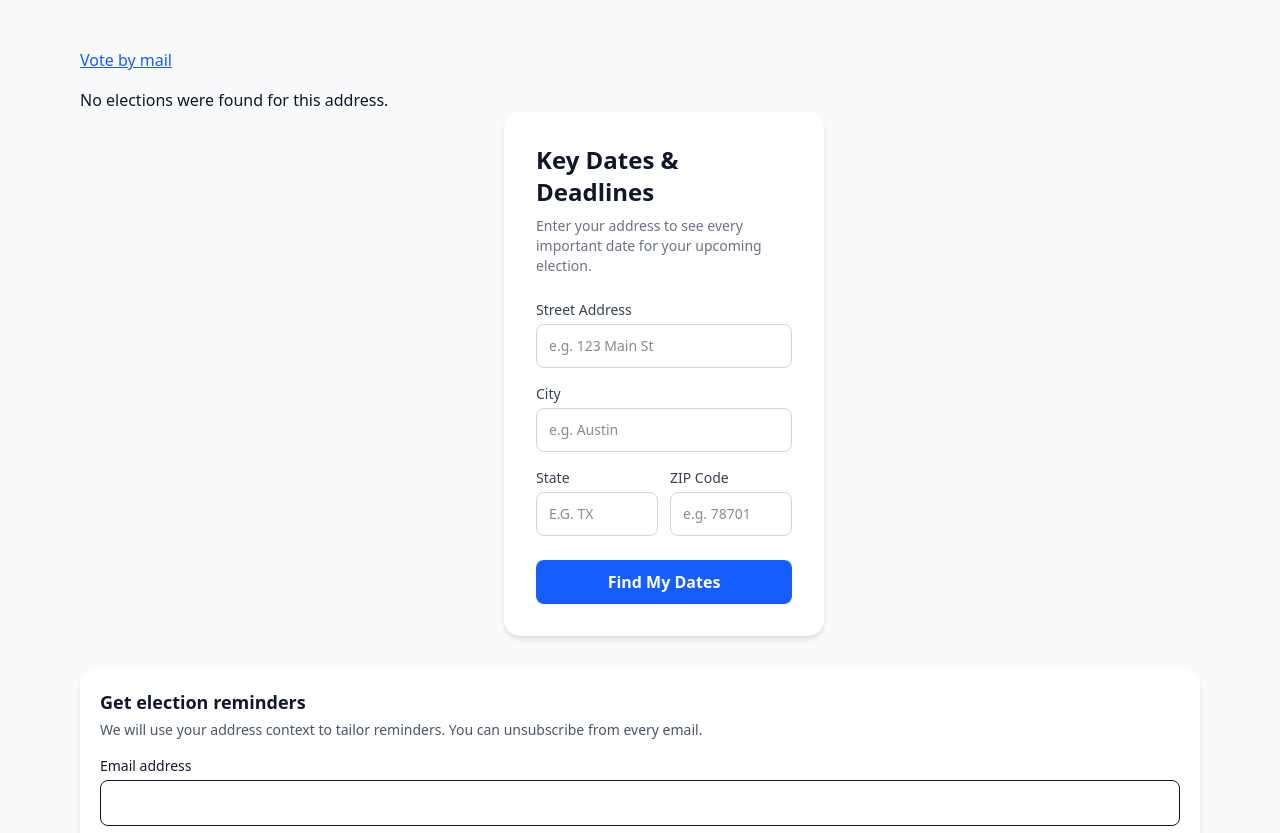
DatesPage › submits the form manually and shows results
Type "123 Main St" into the field labelled "Street Address". click: [664, 346]
box: [536,324,792,368]
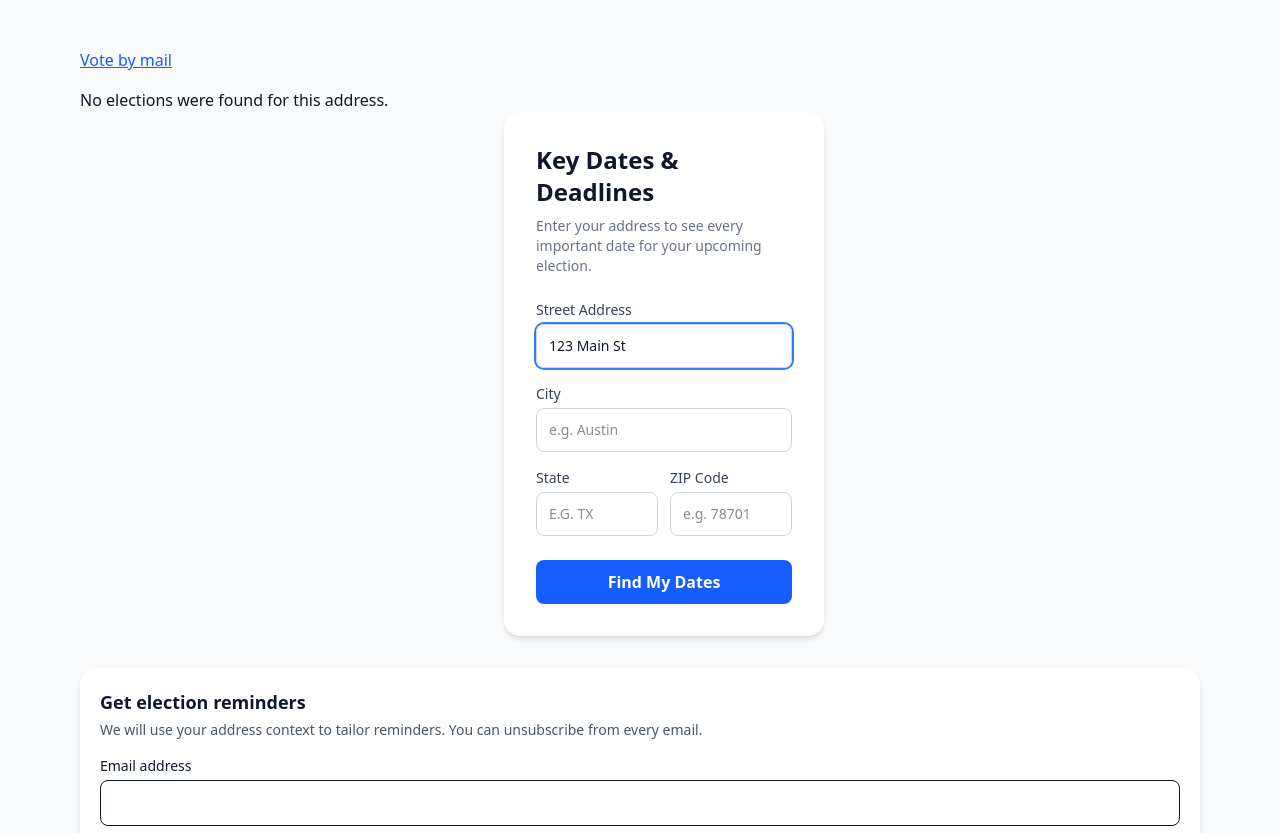
Type "Austin" into the field labelled "City". click: [664, 430]
box: [536,408,792,452]
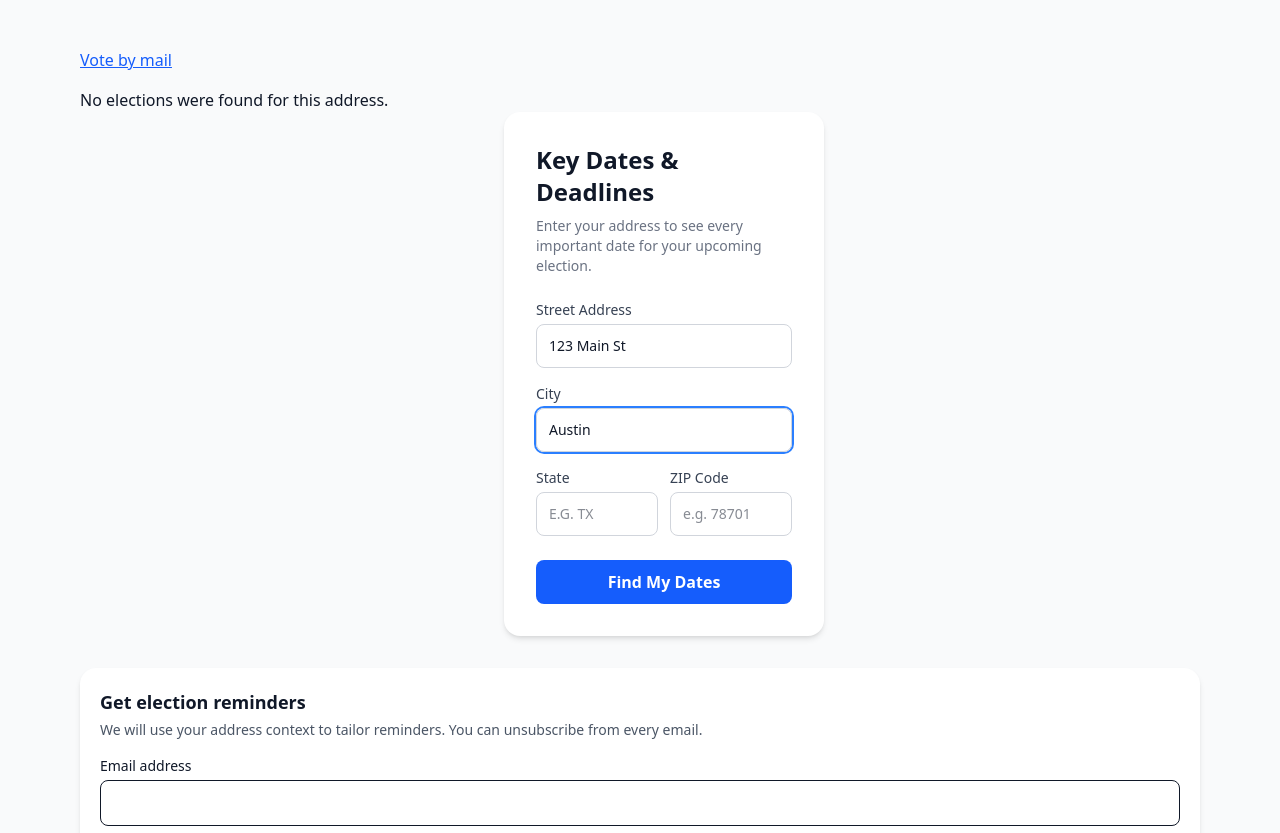
Type "TX" into the field labelled "State". click: [597, 514]
box: [536,492,658,536]
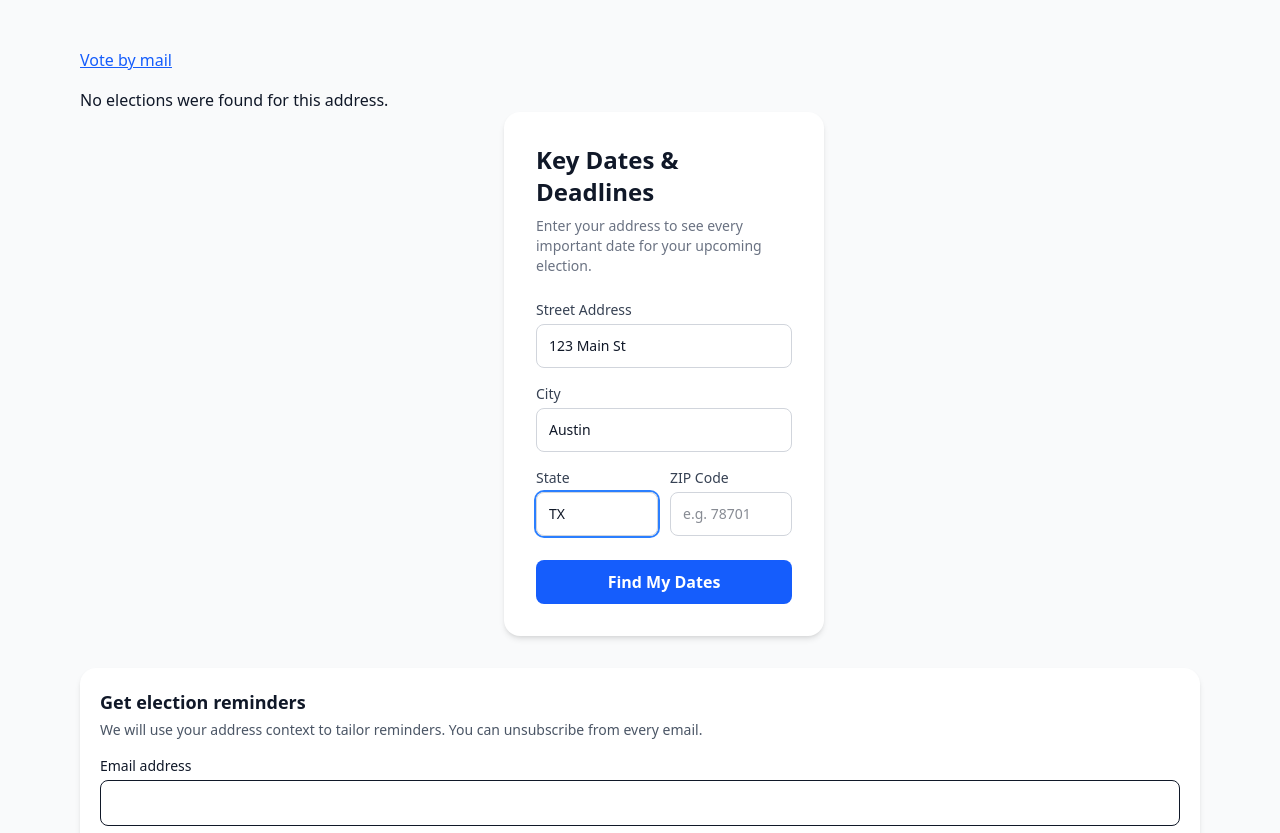
Type "78701" into the field labelled "ZIP Code". click: [731, 514]
box: [670,492,792,536]
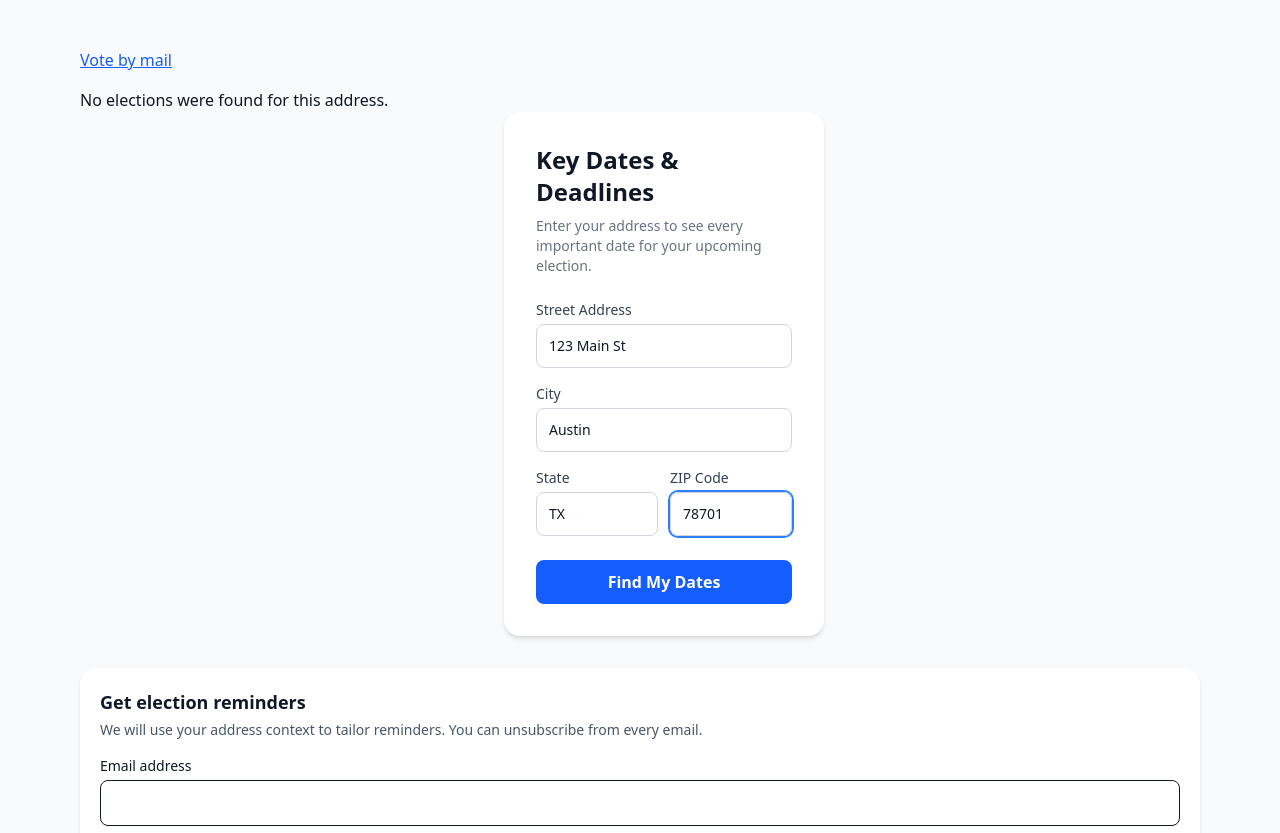
Click the button "Find My Dates". click: [664, 582]
box: [536,560,792,604]
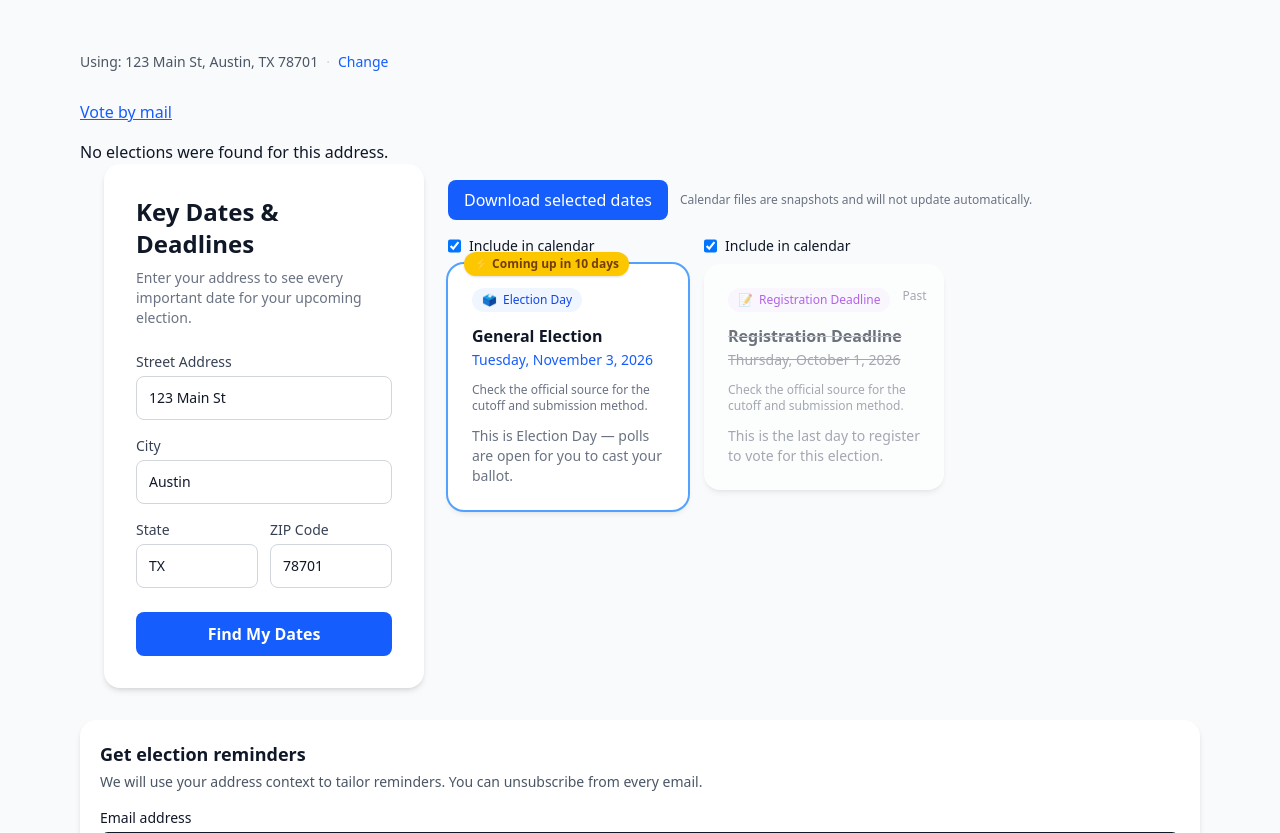
Result: the text "General Election" is shown at [472,325,602,347]
